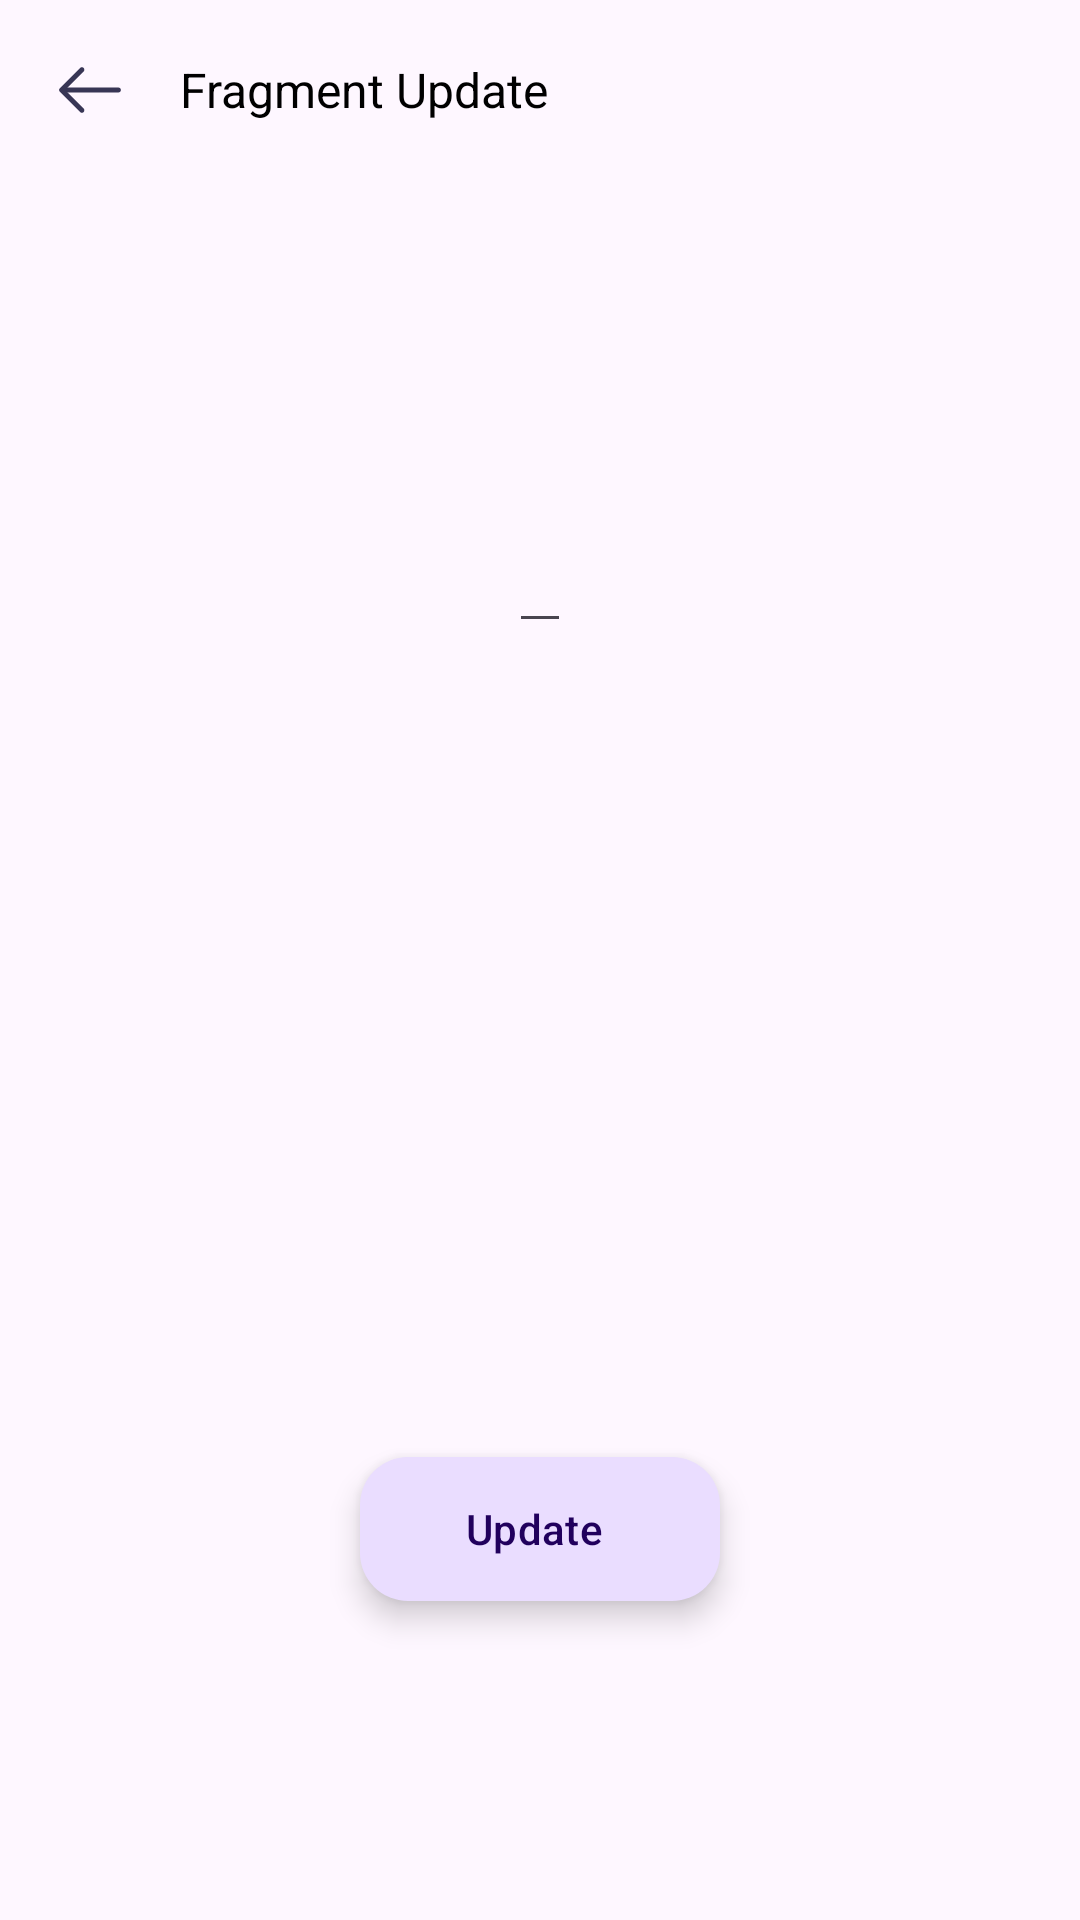

Screen size 1080 × 1920. Icon name, then its center in pixels as point (x, y):
back: point (90, 90)
